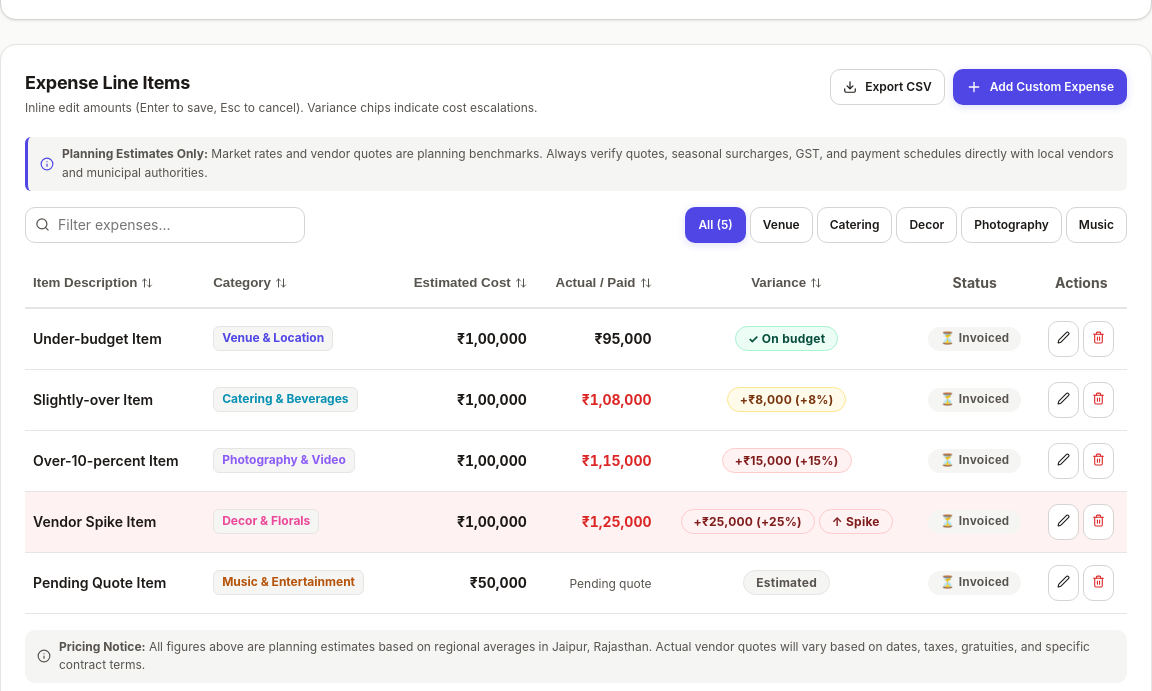
Test: Budget Redesign (Step 4) › cancels inline editing when Escape key is pressed
(page scrolled)
Click the button named "Edit" at (1064, 339), box [1048,321,1079,357]
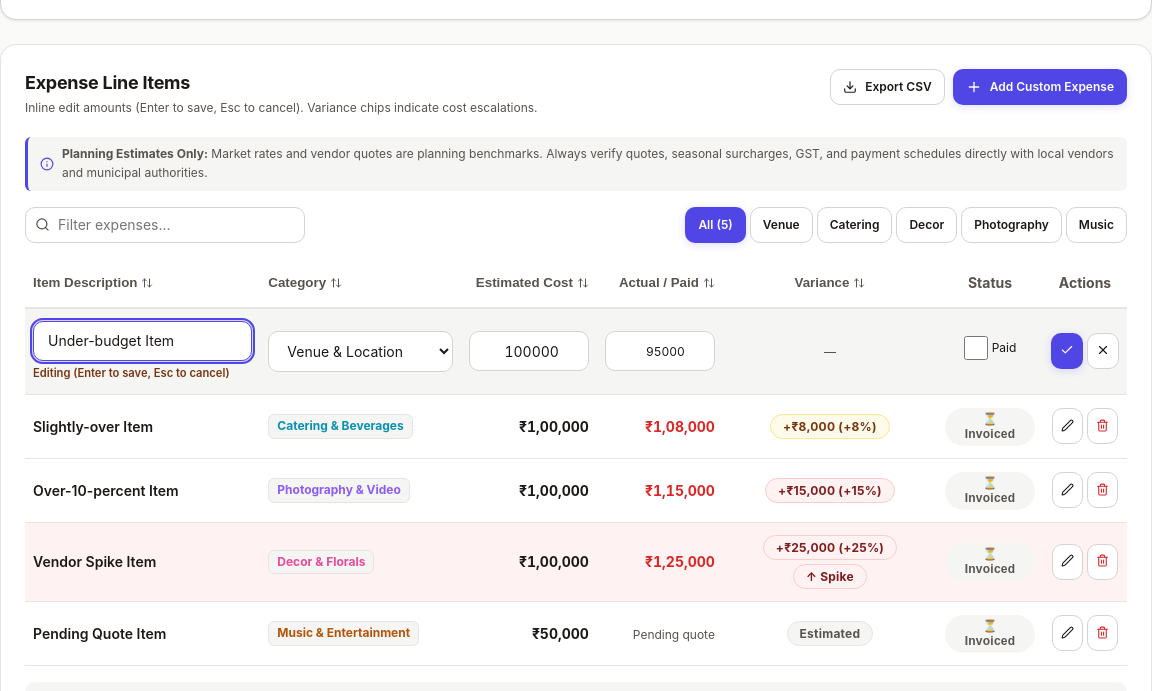
Replace the text in the field named "Edit item name" with "Temporary Name" at (143, 341), box [33,321,252,361]
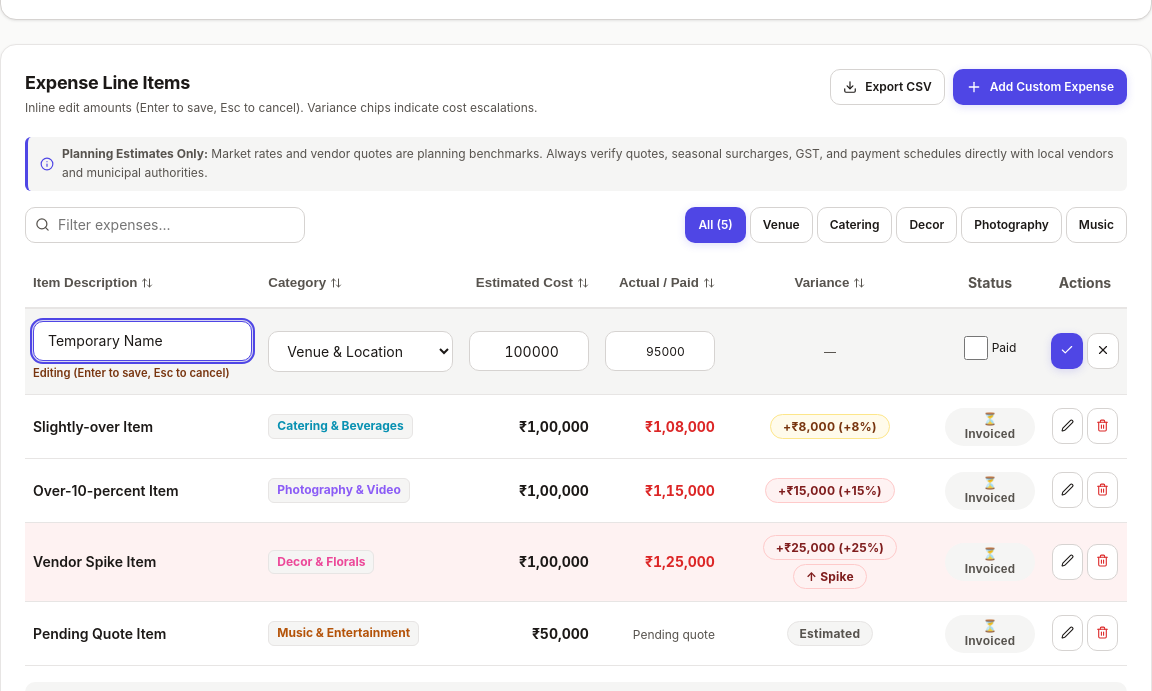
# Press Escape
Press Escape in the field named "Edit item name", box [33,321,252,361]
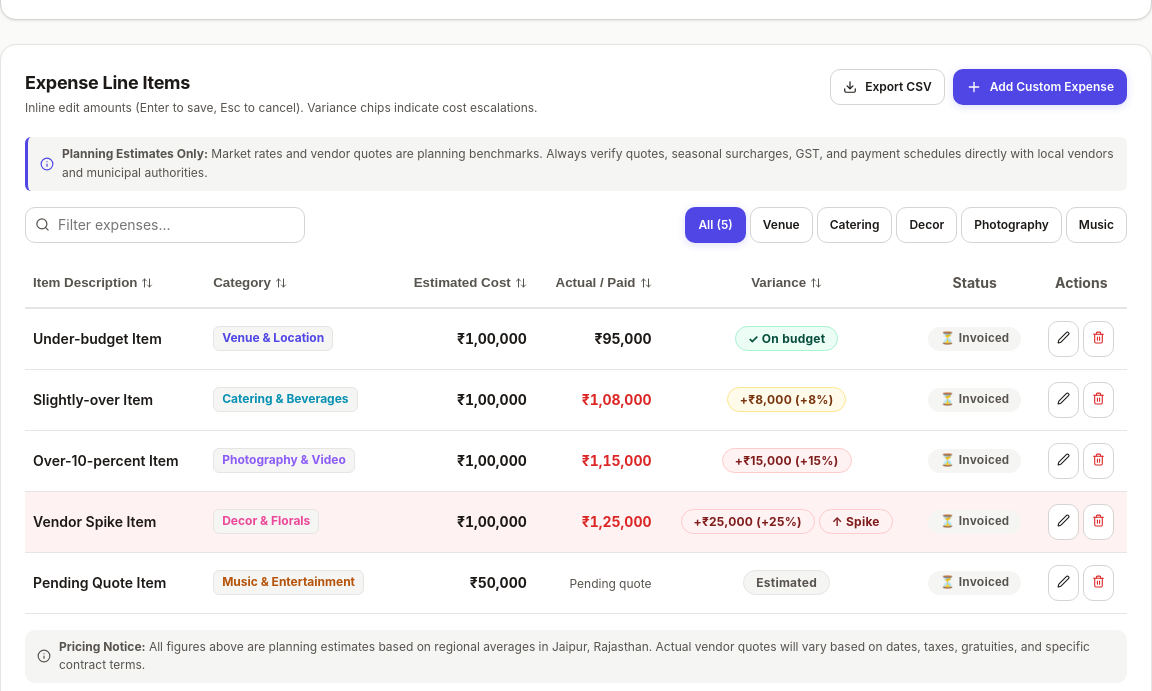
expect the text "Under-budget Item" is shown: met, box [33,330,162,347]
